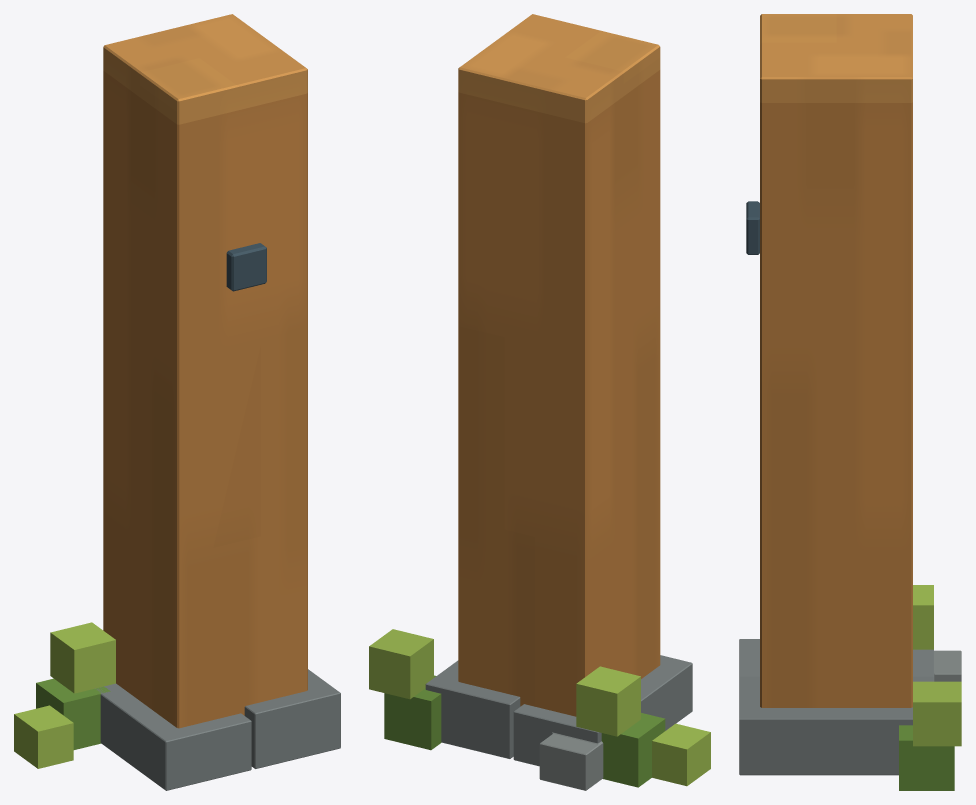
Rendered from SM_VMF_Fence_Picket_EndPost.fbx.
3 renders of one model, left to right at view 1: azimuth 30°, elevation 25°; view 2: azimuth 150°, elevation 25°; view 3: azimuth 270°, elevation 25°, orthographic. The views are drawn at different scales.
Parts seen in each view (by area): view 1: SM_VMF_Fence_Picket_EndPost_Post_Post, SM_VMF_Fence_Picket_EndPost_Post_Foot_Stones, SM_VMF_Fence_Picket_EndPost_Post_Grass_Blocks, SM_VMF_Fence_Picket_EndPost_EndBolt80; view 2: SM_VMF_Fence_Picket_EndPost_Post_Post, SM_VMF_Fence_Picket_EndPost_Post_Grass_Blocks, SM_VMF_Fence_Picket_EndPost_Post_Foot_Stones; view 3: SM_VMF_Fence_Picket_EndPost_Post_Post, SM_VMF_Fence_Picket_EndPost_Post_Foot_Stones, SM_VMF_Fence_Picket_EndPost_Post_Grass_Blocks, SM_VMF_Fence_Picket_EndPost_EndBolt80.
Boxes of the visible parts, <box> form: SM_VMF_Fence_Picket_EndPost_Post_Post: <box>103,14,307,728</box>; SM_VMF_Fence_Picket_EndPost_Post_Foot_Stones: <box>95,669,340,790</box>; SM_VMF_Fence_Picket_EndPost_Post_Grass_Blocks: <box>14,622,115,768</box>; SM_VMF_Fence_Picket_EndPost_EndBolt80: <box>226,243,266,291</box>; SM_VMF_Fence_Picket_EndPost_Post_Post: <box>458,14,660,716</box>; SM_VMF_Fence_Picket_EndPost_Post_Grass_Blocks: <box>369,629,710,787</box>; SM_VMF_Fence_Picket_EndPost_Post_Foot_Stones: <box>425,655,692,790</box>; SM_VMF_Fence_Picket_EndPost_Post_Post: <box>760,14,912,707</box>; SM_VMF_Fence_Picket_EndPost_Post_Foot_Stones: <box>739,639,961,775</box>; SM_VMF_Fence_Picket_EndPost_Post_Grass_Blocks: <box>899,585,961,790</box>; SM_VMF_Fence_Picket_EndPost_EndBolt80: <box>746,201,759,254</box>.
Bounding box in the file's own units: 49 × 109 × 32.
Materials: 1 (1 with a texture image).
